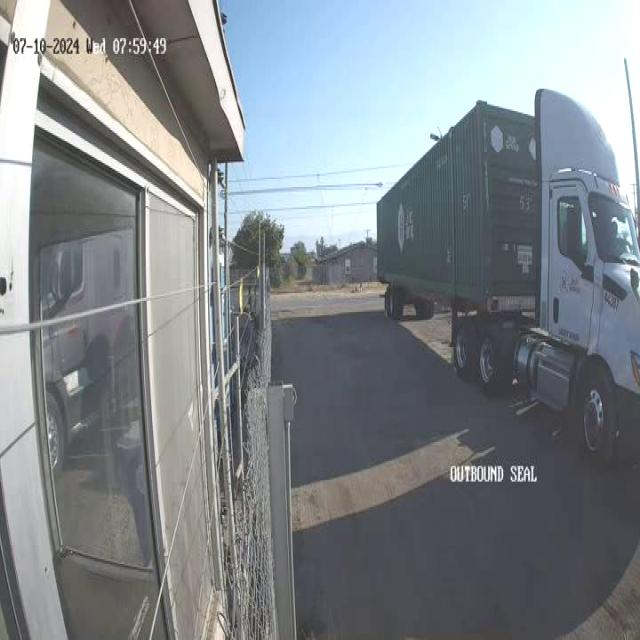CONTAINER: (369, 96, 546, 316)
